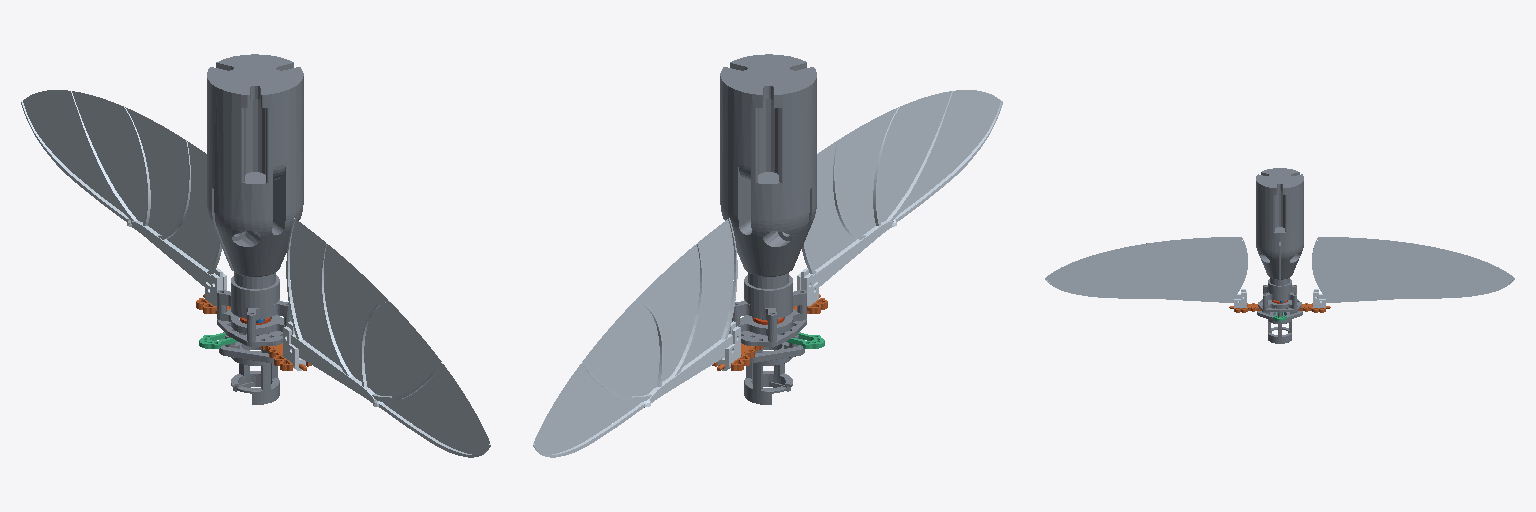
The robot description file, URDF, robot "IST_robot":
<?xml version='1.0' encoding='utf-8'?>
<robot name="IST_robot">
  <!--
SI units: m, kg, rad. Original assembly zero pose, exact SolidWorks coordinate systems.
Two fixed-ring 9/9/27 stages: carrier angles = motor/4 and motor/16.
Planet joint angles are RELATIVE to carriers: -3*motor/4 and -3*motor/16.
The stage-2 sun is part of carrier_1. The motor casing remains on base_link.
Slider and both flapping pivots are supported by base_link, not rotating carriers.
13-tooth flapping pinion: module 0.3 mm, pitch radius 1.95 mm.
Scotch yoke: slider = -0.0027*sin(motor/16). Standard URDF cannot encode
this nonlinear closure; load IST_robot.xml in MuJoCo for coupled physics.
Feathering has no actuator or mimic. User corrected stops to +/-26.1 deg, no spring
or elastic return. Damping and effort/velocity limits are provisional model settings.
Material inertials: solid CNC PEEK mechanisms, PET wing frames, 10 um Kapton films.
See ../materials.json and ../recalculate_inertials.py; base_link is unchanged.
Original CAD density 1000 kg/m3 is inferred from mesh volumes, not measured.
Motor rotor inertia and aerodynamic data are not measured.
Membrane mass is integrated once; reverse visual faces add no extra mass.
Collision meshes describe geometry only; convex mesh collision is unsuitable for
gear engagement. The MJCF uses ideal gear constraints and disables mesh contacts.
-->
  <link name="base_link">
    <inertial>
      <origin xyz="1.26761268613762E-05 -2.20973017296773E-08 -0.0237424608367809" rpy="0 0 0" />
      <mass value="0.0109129405676043" />
      <inertia ixx="1.38805289177657E-06" ixy="1.77724958502214E-11" ixz="7.64109214566619E-10" iyy="1.39517042830575E-06" iyz="-6.40435229464194E-11" izz="4.56358479374671E-07" />
    </inertial>
    <visual>
      <origin xyz="0 0 0" rpy="0 0 0" />
      <geometry>
        <mesh filename="../meshes/base_link.stl" />
      </geometry>
      <material name="base_link_material">
        <color rgba=".55 .58 .62 1" />
      </material>
    </visual>
    <collision>
      <origin xyz="0 0 0" rpy="0 0 0" />
      <geometry>
        <mesh filename="../meshes/base_link.stl" />
      </geometry>
    </collision>
  </link>
  <link name="motor_sun">
    <inertial>
      <origin xyz="3.32832973596192e-11 -1.8625597785044e-11 -0.00118097219061684" rpy="0 0 0" />
      <mass value="9.24465720612881e-06" />
      <inertia ixx="7.20829775690553e-12" ixy="-6.07288991302019e-20" ixz="1.46223535684454e-19" iyy="7.20829801532346e-12" iyz="6.03434160158238e-20" izz="9.97439347469208e-12" />
    </inertial>
    <visual>
      <origin xyz="0 0 0" rpy="0 0 0" />
      <geometry>
        <mesh filename="../meshes/motor_sun.stl" />
      </geometry>
      <material name="motor_sun_material">
        <color rgba=".95 .65 .12 1" />
      </material>
    </visual>
    <collision>
      <origin xyz="0 0 0" rpy="0 0 0" />
      <geometry>
        <mesh filename="../meshes/motor_sun.stl" />
      </geometry>
    </collision>
  </link>
  <link name="carrier_1">
    <inertial>
      <origin xyz="-1.73310121737e-10 -3.24918557588e-10 -0.00215355804873" rpy="0 0 0" />
      <mass value="6.20212756891e-05" />
      <inertia ixx="2.949469618459e-10" ixy="3.506696363482e-18" ixz="-6.260708655656e-18" iyy="2.949469662022e-10" iyz="-1.582547427162e-17" izz="3.126416935213e-10" />
    </inertial>
    <visual>
      <origin xyz="0 0 0" rpy="0 0 0" />
      <geometry>
        <mesh filename="../meshes/carrier_1.stl" />
      </geometry>
      <material name="carrier_1_material">
        <color rgba=".25 .55 .8 1" />
      </material>
    </visual>
    <collision>
      <origin xyz="0 0 0" rpy="0 0 0" />
      <geometry>
        <mesh filename="../meshes/carrier_1.stl" />
      </geometry>
    </collision>
  </link>
  <link name="planet_1_1">
    <inertial>
      <origin xyz="5.67578651505e-12 2.26856838893e-11 0.000499999991572" rpy="0 0 0" />
      <mass value="5.737680733473e-06" />
      <inertia ixx="3.71652274435e-12" ixy="-9.779239622893e-20" ixz="1.610314610294e-20" iyy="3.71652263983e-12" iyz="4.562423784243e-20" izz="6.476767060959e-12" />
    </inertial>
    <visual>
      <origin xyz="0 0 0" rpy="0 0 0" />
      <geometry>
        <mesh filename="../meshes/planet_1_1.stl" />
      </geometry>
      <material name="planet_1_1_material">
        <color rgba=".65 .8 .95 1" />
      </material>
    </visual>
    <collision>
      <origin xyz="0 0 0" rpy="0 0 0" />
      <geometry>
        <mesh filename="../meshes/planet_1_1.stl" />
      </geometry>
    </collision>
  </link>
  <link name="planet_1_2">
    <inertial>
      <origin xyz="5.67578651505e-12 2.26856839435e-11 0.000499999991572" rpy="0 0 0" />
      <mass value="5.737680733473e-06" />
      <inertia ixx="3.71652274435e-12" ixy="-9.779239622893e-20" ixz="1.610314610294e-20" iyy="3.71652263983e-12" iyz="4.562423784243e-20" izz="6.476767060959e-12" />
    </inertial>
    <visual>
      <origin xyz="0 0 0" rpy="0 0 0" />
      <geometry>
        <mesh filename="../meshes/planet_1_2.stl" />
      </geometry>
      <material name="planet_1_2_material">
        <color rgba=".65 .8 .95 1" />
      </material>
    </visual>
    <collision>
      <origin xyz="0 0 0" rpy="0 0 0" />
      <geometry>
        <mesh filename="../meshes/planet_1_2.stl" />
      </geometry>
    </collision>
  </link>
  <link name="planet_1_3">
    <inertial>
      <origin xyz="5.67578651505e-12 2.26856838893e-11 0.000499999991572" rpy="0 0 0" />
      <mass value="5.737680733473e-06" />
      <inertia ixx="3.71652274435e-12" ixy="-9.779239622893e-20" ixz="1.610314610294e-20" iyy="3.71652263983e-12" iyz="4.562423784243e-20" izz="6.476767060959e-12" />
    </inertial>
    <visual>
      <origin xyz="0 0 0" rpy="0 0 0" />
      <geometry>
        <mesh filename="../meshes/planet_1_3.stl" />
      </geometry>
      <material name="planet_1_3_material">
        <color rgba=".65 .8 .95 1" />
      </material>
    </visual>
    <collision>
      <origin xyz="0 0 0" rpy="0 0 0" />
      <geometry>
        <mesh filename="../meshes/planet_1_3.stl" />
      </geometry>
    </collision>
  </link>
  <link name="carrier_2">
    <inertial>
      <origin xyz="-3.17866043324e-05 -0.000182285856424 -0.00467809526695" rpy="0 0 0" />
      <mass value="5.391299719195e-05" />
      <inertia ixx="2.781872030769e-10" ixy="-3.875580938268e-12" ixz="-6.423102939877e-13" iyy="2.566378198202e-10" iyz="-3.683441012056e-12" izz="4.121221917891e-10" />
    </inertial>
    <visual>
      <origin xyz="0 0 0" rpy="0 0 0" />
      <geometry>
        <mesh filename="../meshes/carrier_2.stl" />
      </geometry>
      <material name="carrier_2_material">
        <color rgba=".8 .35 .2 1" />
      </material>
    </visual>
    <collision>
      <origin xyz="0 0 0" rpy="0 0 0" />
      <geometry>
        <mesh filename="../meshes/carrier_2.stl" />
      </geometry>
    </collision>
  </link>
  <link name="planet_2_1">
    <inertial>
      <origin xyz="5.67578646084e-12 2.26856838893e-11 0.000499999991572" rpy="0 0 0" />
      <mass value="5.737680733473e-06" />
      <inertia ixx="3.71652274435e-12" ixy="-9.779239622893e-20" ixz="1.610314610294e-20" iyy="3.71652263983e-12" iyz="4.562423784243e-20" izz="6.476767060959e-12" />
    </inertial>
    <visual>
      <origin xyz="0 0 0" rpy="0 0 0" />
      <geometry>
        <mesh filename="../meshes/planet_2_1.stl" />
      </geometry>
      <material name="planet_2_1_material">
        <color rgba=".65 .8 .95 1" />
      </material>
    </visual>
    <collision>
      <origin xyz="0 0 0" rpy="0 0 0" />
      <geometry>
        <mesh filename="../meshes/planet_2_1.stl" />
      </geometry>
    </collision>
  </link>
  <link name="planet_2_2">
    <inertial>
      <origin xyz="-6.8031245921e-12 2.23734731527e-11 0.000499999991572" rpy="0 0 0" />
      <mass value="5.737680733473e-06" />
      <inertia ixx="3.716522802967e-12" ixy="7.738299952786e-23" ixz="-9.661717019851e-21" iyy="3.716522581213e-12" iyz="4.740815972126e-20" izz="6.476767060959e-12" />
    </inertial>
    <visual>
      <origin xyz="0 0 0" rpy="0 0 0" />
      <geometry>
        <mesh filename="../meshes/planet_2_2.stl" />
      </geometry>
      <material name="planet_2_2_material">
        <color rgba=".65 .8 .95 1" />
      </material>
    </visual>
    <collision>
      <origin xyz="0 0 0" rpy="0 0 0" />
      <geometry>
        <mesh filename="../meshes/planet_2_2.stl" />
      </geometry>
    </collision>
  </link>
  <link name="planet_2_3">
    <inertial>
      <origin xyz="5.67578694873e-12 2.26856836725e-11 0.000499999991572" rpy="0 0 0" />
      <mass value="5.737680733473e-06" />
      <inertia ixx="3.71652274435e-12" ixy="-9.779239622893e-20" ixz="1.610314610294e-20" iyy="3.71652263983e-12" iyz="4.562423784243e-20" izz="6.476767060959e-12" />
    </inertial>
    <visual>
      <origin xyz="0 0 0" rpy="0 0 0" />
      <geometry>
        <mesh filename="../meshes/planet_2_3.stl" />
      </geometry>
      <material name="planet_2_3_material">
        <color rgba=".65 .8 .95 1" />
      </material>
    </visual>
    <collision>
      <origin xyz="0 0 0" rpy="0 0 0" />
      <geometry>
        <mesh filename="../meshes/planet_2_3.stl" />
      </geometry>
    </collision>
  </link>
  <link name="slider">
    <inertial>
      <origin xyz="-0.000471238301986213 -0.00724999999999904 0.000500000000000007" rpy="0 0 0" />
      <mass value="9.13433299099911e-05" />
      <inertia ixx="5.27794068806615e-10" ixy="-3.80698997352266e-23" ixz="1.32114430487267e-25" iyy="4.19977143860114e-09" iyz="5.59698022342879e-27" izz="4.71234161908943e-09" />
    </inertial>
    <visual>
      <origin xyz="0 0 0" rpy="0 0 0" />
      <geometry>
        <mesh filename="../meshes/slider.stl" />
      </geometry>
      <material name="slider_material">
        <color rgba=".3 .75 .55 1" />
      </material>
    </visual>
    <collision>
      <origin xyz="0 0 0" rpy="0 0 0" />
      <geometry>
        <mesh filename="../meshes/slider.stl" />
      </geometry>
    </collision>
  </link>
  <link name="left_flapping">
    <inertial>
      <origin xyz="0.00548903429774845 -6.56871542558514e-11 -0.000675091274318626" rpy="0 0 0" />
      <mass value="7.69478363348058e-05" />
      <inertia ixx="2.42874984735233e-10" ixy="1.33480878154164e-21" ixz="4.89509341337448e-12" iyy="1.07694212715597e-09" iyz="1.82482987991067e-23" izz="1.29980109009275e-09" />
    </inertial>
    <visual>
      <origin xyz="0 0 0" rpy="0 0 0" />
      <geometry>
        <mesh filename="../meshes/left_flapping.stl" />
      </geometry>
      <material name="left_flapping_material">
        <color rgba=".8 .45 .25 1" />
      </material>
    </visual>
    <collision>
      <origin xyz="0 0 0" rpy="0 0 0" />
      <geometry>
        <mesh filename="../meshes/left_flapping.stl" />
      </geometry>
    </collision>
  </link>
  <link name="left_wing">
    <inertial>
      <origin xyz="1.72174182157468e-05 0.0202267079520993 0.00631483804910844" rpy="0 0 0" />
      <mass value="0.000333849502130418" />
      <inertia ixx="5.47629869105606e-08" ixy="1.64685676479021e-10" ixz="1.33328181846956e-10" iyy="6.63071803489766e-09" iyz="-4.49940546418837e-09" izz="4.8269233447209e-08" />
    </inertial>
    <visual>
      <origin xyz="0 0 0" rpy="0 0 0" />
      <geometry>
        <mesh filename="../meshes/left_wing.stl" />
      </geometry>
      <material name="left_wing_material">
        <color rgba=".85 .9 .95 1" />
      </material>
    </visual>
    <collision>
      <origin xyz="0 0 0" rpy="0 0 0" />
      <geometry>
        <mesh filename="../meshes/left_wing.stl" />
      </geometry>
    </collision>
  </link>
  <link name="right_flapping">
    <inertial>
      <origin xyz="0.00548903429774801 6.56934543304989e-11 -0.000675091274318626" rpy="0 0 0" />
      <mass value="7.69478363348058e-05" />
      <inertia ixx="2.42874984735233e-10" ixy="1.33413383513526e-21" ixz="4.89509341337441e-12" iyy="1.07694212715597e-09" iyz="1.82560258559346e-23" izz="1.29980109009275e-09" />
    </inertial>
    <visual>
      <origin xyz="0 0 0" rpy="0 0 0" />
      <geometry>
        <mesh filename="../meshes/right_flapping.stl" />
      </geometry>
      <material name="right_flapping_material">
        <color rgba=".8 .45 .25 1" />
      </material>
    </visual>
    <collision>
      <origin xyz="0 0 0" rpy="0 0 0" />
      <geometry>
        <mesh filename="../meshes/right_flapping.stl" />
      </geometry>
    </collision>
  </link>
  <link name="right_wing">
    <inertial>
      <origin xyz="-1.71820374846992e-05 0.0202054858245543 0.00631658519247802" rpy="0 0 0" />
      <mass value="0.00033369228976673" />
      <inertia ixx="5.47064232192769e-08" ixy="-1.65019627131557e-10" ixz="-1.33426248126724e-10" iyy="6.63643111989782e-09" iyz="-4.50084711239028e-09" izz="4.82069415651429e-08" />
    </inertial>
    <visual>
      <origin xyz="0 0 0" rpy="0 0 0" />
      <geometry>
        <mesh filename="../meshes/right_wing.stl" />
      </geometry>
      <material name="right_wing_material">
        <color rgba=".85 .9 .95 1" />
      </material>
    </visual>
    <collision>
      <origin xyz="0 0 0" rpy="0 0 0" />
      <geometry>
        <mesh filename="../meshes/right_wing.stl" />
      </geometry>
    </collision>
  </link>
  <joint name="motor_joint" type="continuous">
    <origin xyz="0 -3.1473754338e-18 -0.0514022391601" rpy="0 0 -2.96895077434" />
    <parent link="base_link" />
    <child link="motor_sun" />
    <axis xyz="0 0 1" />
    <limit effort="0.002" velocity="20000" />
    <dynamics damping="1e-10" friction="0" />
  </joint>
  <joint name="carrier_1_joint" type="continuous">
    <origin xyz="0 -3.1473754338e-18 -0.0514022391601" rpy="0 0 -2.96895077434" />
    <parent link="base_link" />
    <child link="carrier_1" />
    <axis xyz="0 0 1" />
    <limit effort="0.002" velocity="20000" />
    <mimic joint="motor_joint" multiplier="0.25" offset="0" />
  </joint>
  <joint name="planet_1_1_joint" type="continuous">
    <origin xyz="0.000936278737523 0.00253246562184 -0.002" rpy="0 0 9.53601373288e-18" />
    <parent link="carrier_1" />
    <child link="planet_1_1" />
    <axis xyz="0 0 1" />
    <limit effort="0.002" velocity="20000" />
    <mimic joint="motor_joint" multiplier="-0.75" offset="0" />
  </joint>
  <joint name="planet_1_2_joint" type="continuous">
    <origin xyz="-0.00266131893086 -0.000455391639881 -0.002" rpy="0 0 9.53601373288e-18" />
    <parent link="carrier_1" />
    <child link="planet_1_2" />
    <axis xyz="0 0 1" />
    <limit effort="0.002" velocity="20000" />
    <mimic joint="motor_joint" multiplier="-0.75" offset="0" />
  </joint>
  <joint name="planet_1_3_joint" type="continuous">
    <origin xyz="0.00172504019486 -0.00207707398244 -0.002" rpy="0 0 9.53601373288e-18" />
    <parent link="carrier_1" />
    <child link="planet_1_3" />
    <axis xyz="0 0 1" />
    <limit effort="0.002" velocity="20000" />
    <mimic joint="motor_joint" multiplier="-0.75" offset="0" />
  </joint>
  <joint name="carrier_2_joint" type="continuous">
    <origin xyz="0 -3.1473754338e-18 -0.0514022391601" rpy="0 0 -2.96895077434" />
    <parent link="base_link" />
    <child link="carrier_2" />
    <axis xyz="0 0 1" />
    <limit effort="0.002" velocity="20000" />
    <mimic joint="motor_joint" multiplier="0.0625" offset="0" />
  </joint>
  <joint name="planet_2_1_joint" type="continuous">
    <origin xyz="0.000463820989763 0.00265986279516 -0.005" rpy="0 0 9.53601373288e-18" />
    <parent link="carrier_2" />
    <child link="planet_2_1" />
    <axis xyz="0 0 1" />
    <limit effort="0.002" velocity="20000" />
    <mimic joint="motor_joint" multiplier="-0.1875" offset="0" />
  </joint>
  <joint name="planet_2_2_joint" type="continuous">
    <origin xyz="-0.00253541924544 -0.000928250638032 -0.005" rpy="0 0 9.53601373288e-18" />
    <parent link="carrier_2" />
    <child link="planet_2_2" />
    <axis xyz="0 0 1" />
    <limit effort="0.002" velocity="20000" />
    <mimic joint="motor_joint" multiplier="-0.1875" offset="0" />
  </joint>
  <joint name="planet_2_3_joint" type="continuous">
    <origin xyz="0.00207159825721 -0.00173161215732 -0.005" rpy="0 0 9.53601373288e-18" />
    <parent link="carrier_2" />
    <child link="planet_2_3" />
    <axis xyz="0 0 1" />
    <limit effort="0.002" velocity="20000" />
    <mimic joint="motor_joint" multiplier="-0.1875" offset="0" />
  </joint>
  <joint name="slider_joint" type="prismatic">
    <origin xyz="0.000471238301987 0.00724999990958 -0.0584022391601" rpy="-6.12303176911e-17 0 0" />
    <parent link="base_link" />
    <child link="slider" />
    <axis xyz="1 0 0" />
    <limit effort="1" velocity="2" lower="-0.0027" upper="0.0027" />
    <dynamics damping="1e-05" friction="0" />
  </joint>
  <joint name="left_flapping_joint" type="revolute">
    <origin xyz="0 -0.00660000009075 -0.0588022391601" rpy="3.14159265359 0 -1.57079632679" />
    <parent link="base_link" />
    <child link="left_flapping" />
    <axis xyz="0 0 -1" />
    <limit effort="0.002" velocity="20000" lower="-1.38461538462" upper="1.38461538462" />
    <dynamics damping="1e-09" friction="0" />
    <mimic joint="slider_joint" multiplier="-512.820512821" offset="0" />
  </joint>
  <joint name="left_feathering_joint" type="revolute">
    <origin xyz="0.00699999999933 6.07153216534e-19 -0.00065" rpy="3.14159265359 0 1.57079632679" />
    <parent link="left_flapping" />
    <child link="left_wing" />
    <axis xyz="0 1 0" />
    <limit effort="0.002" velocity="20000" lower="-0.455530934771" upper="0.455530934771" />
    <dynamics damping="1e-08" friction="0" />
  </joint>
  <joint name="right_flapping_joint" type="revolute">
    <origin xyz="0 0.00659999990992 -0.0588022391601" rpy="3.14159265359 0 1.57079632679" />
    <parent link="base_link" />
    <child link="right_flapping" />
    <axis xyz="0 0 -1" />
    <limit effort="0.002" velocity="20000" lower="-1.38461538462" upper="1.38461538462" />
    <dynamics damping="1e-09" friction="0" />
    <mimic joint="slider_joint" multiplier="512.820512821" offset="0" />
  </joint>
  <joint name="right_feathering_joint" type="revolute">
    <origin xyz="0.00699999999933 -6.07153216534e-19 -0.00065" rpy="3.14159265359 0 1.57079632679" />
    <parent link="right_flapping" />
    <child link="right_wing" />
    <axis xyz="0 1 0" />
    <limit effort="0.002" velocity="20000" lower="-0.455530934771" upper="0.455530934771" />
    <dynamics damping="1e-08" friction="0" />
  </joint>
</robot>

--- Facts derived from the render (not from the file) ---
Views: 3 orthographic renders of the robot side by side, from view 1: azimuth 30°, elevation 25°; view 2: azimuth 150°, elevation 25°; view 3: azimuth 270°, elevation 25°.
Model IST_robot with 15 links and 14 joints (4 revolute, 9 continuous, 1 prismatic), rooted at base_link, posed all joints at 0.
Visible links, largest first — view 1: base_link, left_wing, right_wing; view 2: base_link, right_wing, left_wing; view 3: left_wing, right_wing, base_link.
Boxes of the visible links, box(x1,y1,x2,y2) form: base_link: box(207, 54, 303, 404); left_wing: box(283, 218, 490, 457); right_wing: box(21, 90, 226, 305); base_link: box(720, 54, 816, 404); right_wing: box(533, 218, 740, 457); left_wing: box(797, 90, 1002, 305); left_wing: box(1045, 237, 1247, 307); right_wing: box(1312, 237, 1514, 307); base_link: box(1256, 168, 1303, 343).
Size in the robot's own frame: 0.0259 by 0.1921 by 0.0723 metres.
Meshes: 15 distinct files referenced, 15 mesh visuals loaded (15 binary STL).
